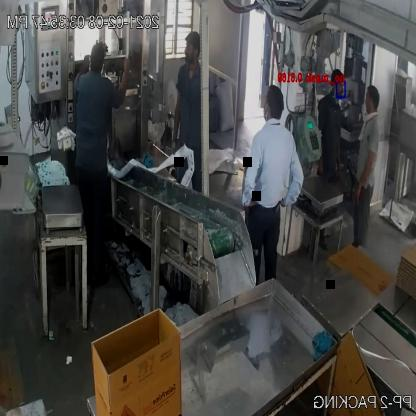no_glove: (164, 70, 188, 166), (350, 140, 380, 215), (280, 142, 307, 224), (242, 132, 265, 227), (64, 46, 93, 104), (114, 48, 138, 113)
